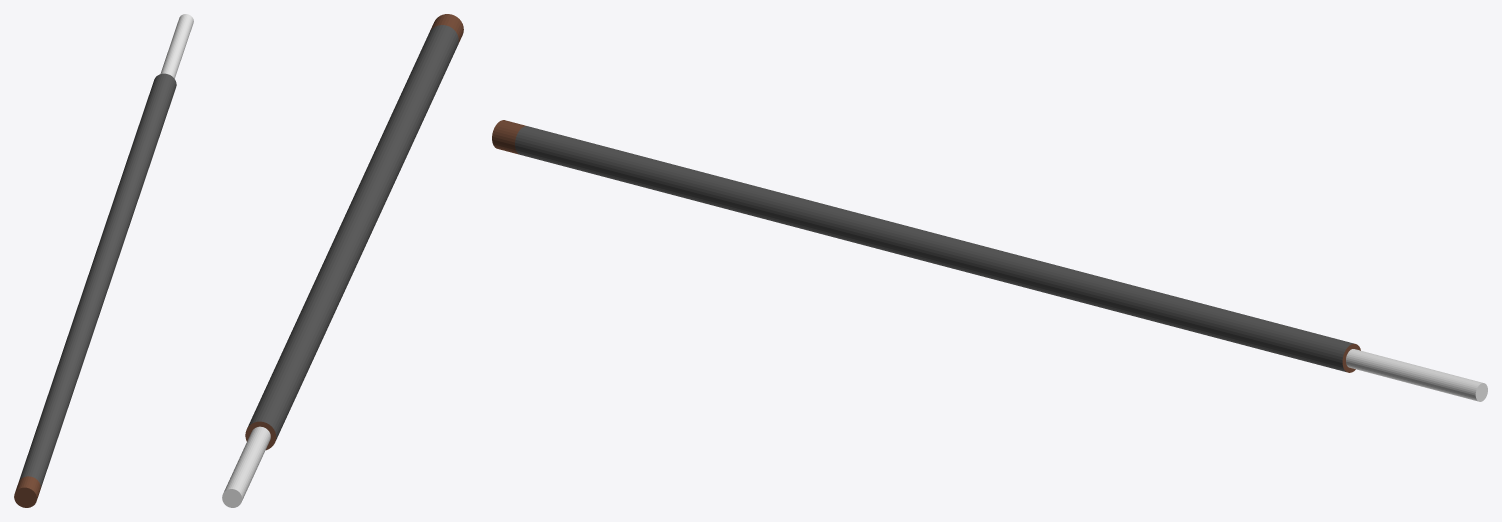
The model's file is electrode_7018.fbx.
The picture shows the model from 3 angles, left to right: view 1: azimuth 30°, elevation 25°; view 2: azimuth 210°, elevation 25°; view 3: azimuth 270°, elevation 25°; orthographic projection. The views are drawn at different scales.
Parts seen in each view (by area): view 1: Cylinder; view 2: Cylinder; view 3: Cylinder.
Part boxes in pixels (left/top/right/bottom): Cylinder: left=14, top=14, right=193, bottom=507; Cylinder: left=222, top=14, right=463, bottom=507; Cylinder: left=492, top=120, right=1487, bottom=401.
Size of the model in its own units: 452 by 63.07 by 548.
